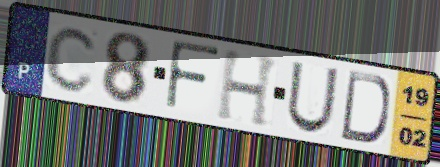8: (99, 29, 153, 106)
C: (43, 24, 101, 95)
D: (337, 68, 392, 146)
F: (163, 38, 223, 115)
H: (214, 47, 282, 130)
U: (284, 59, 342, 135)
